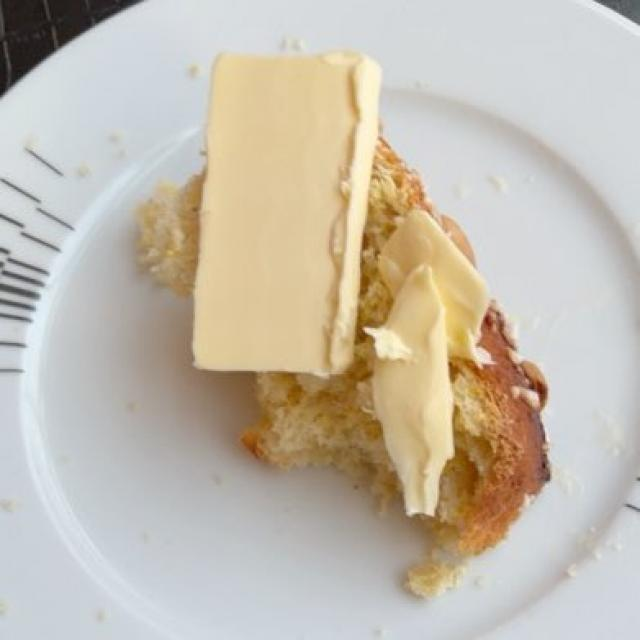butter: (214, 62, 474, 506)
